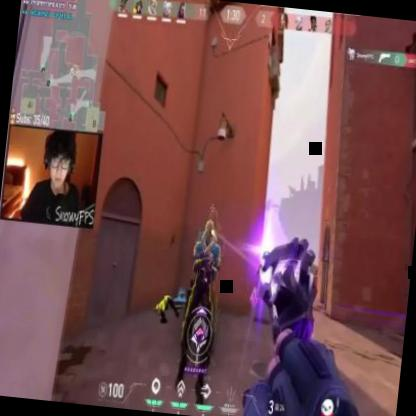enemy: (172, 214, 226, 409)
enemy_head: (202, 218, 218, 246)
